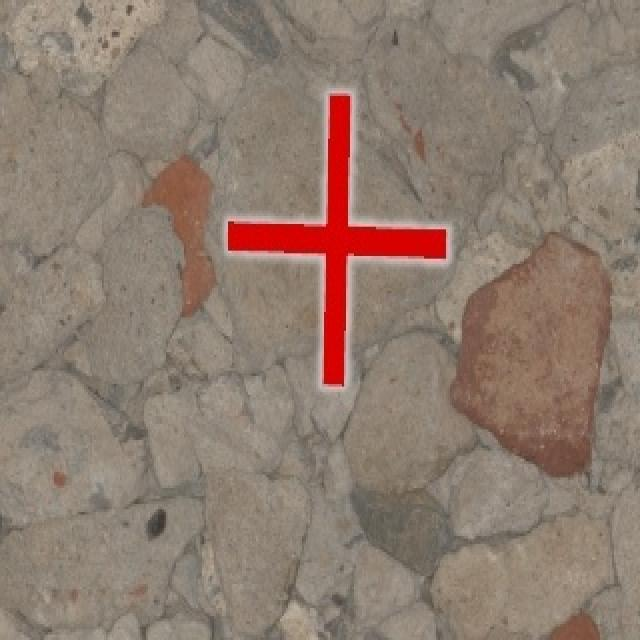x_marker: (227, 92, 447, 385)
